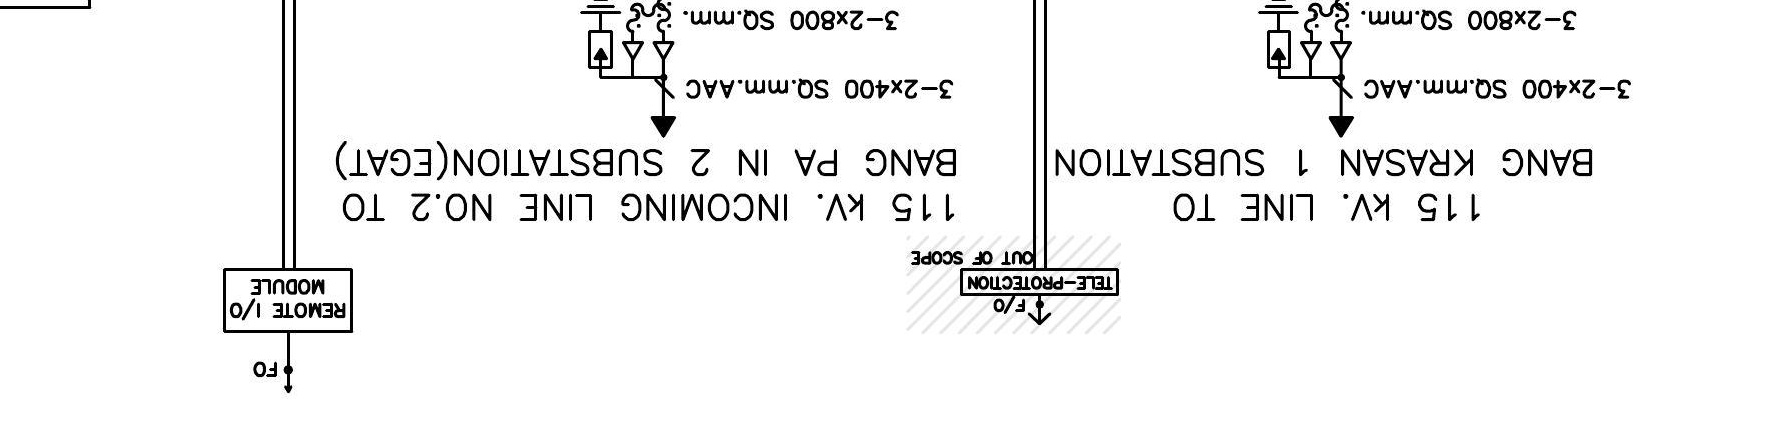remote_io_module: (223, 268, 354, 333)
tele_protection: (959, 267, 1120, 296)
terminator_double: (1298, 40, 1354, 80), (620, 41, 676, 80)
